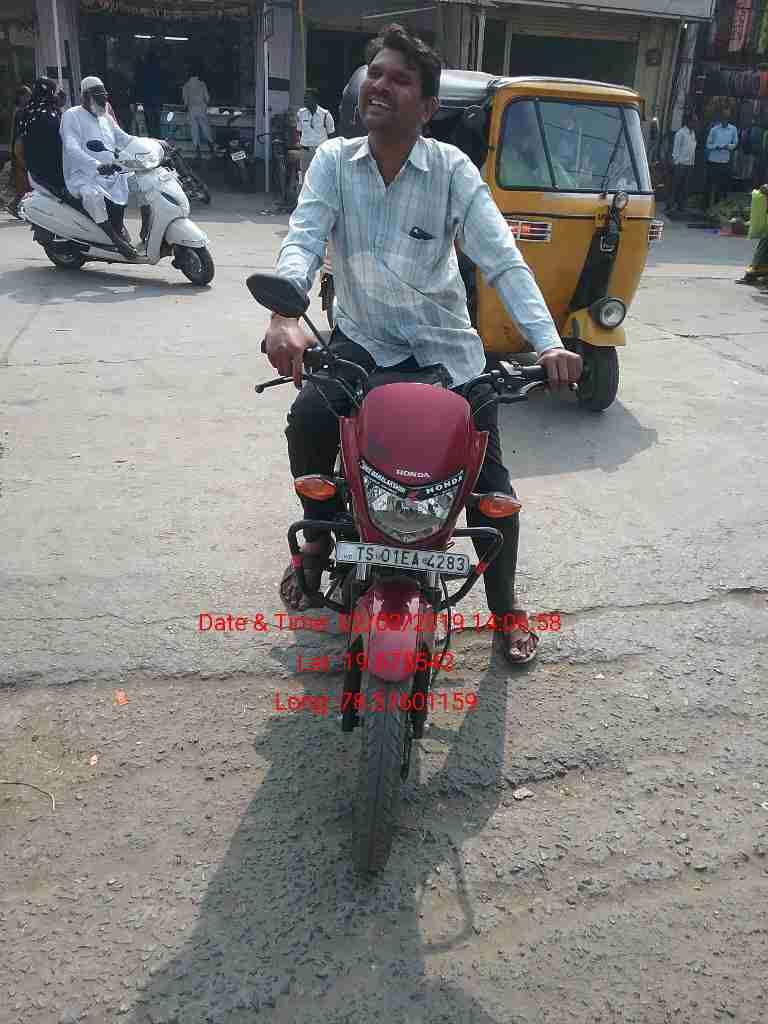plate: (332, 535, 479, 585)
